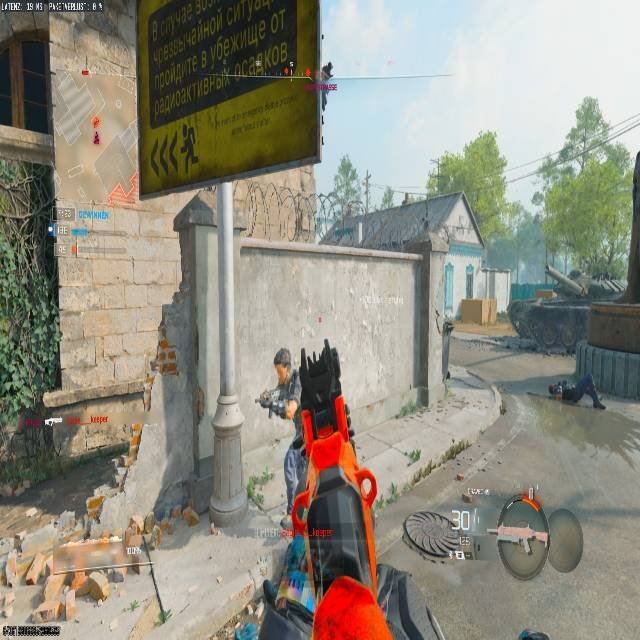head: (273, 347, 291, 379), (324, 61, 333, 72)
player: (316, 62, 337, 125)
